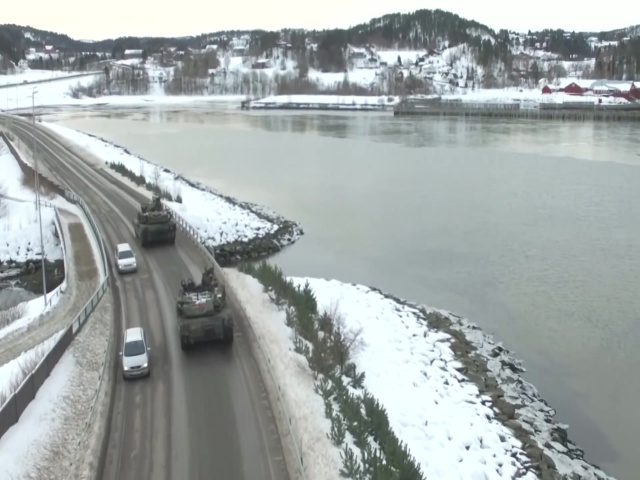vehicle: (175, 275, 236, 351), (134, 200, 178, 248), (119, 324, 152, 380), (113, 241, 137, 273)
